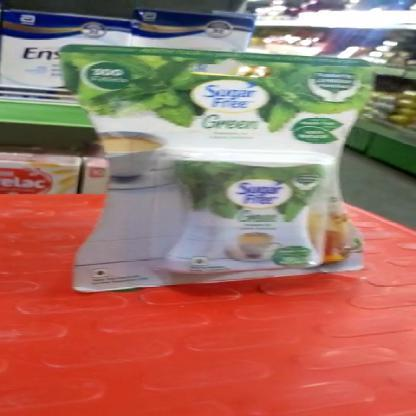SUGAR FREE GRN 300 PELLET: (65, 42, 375, 292)
